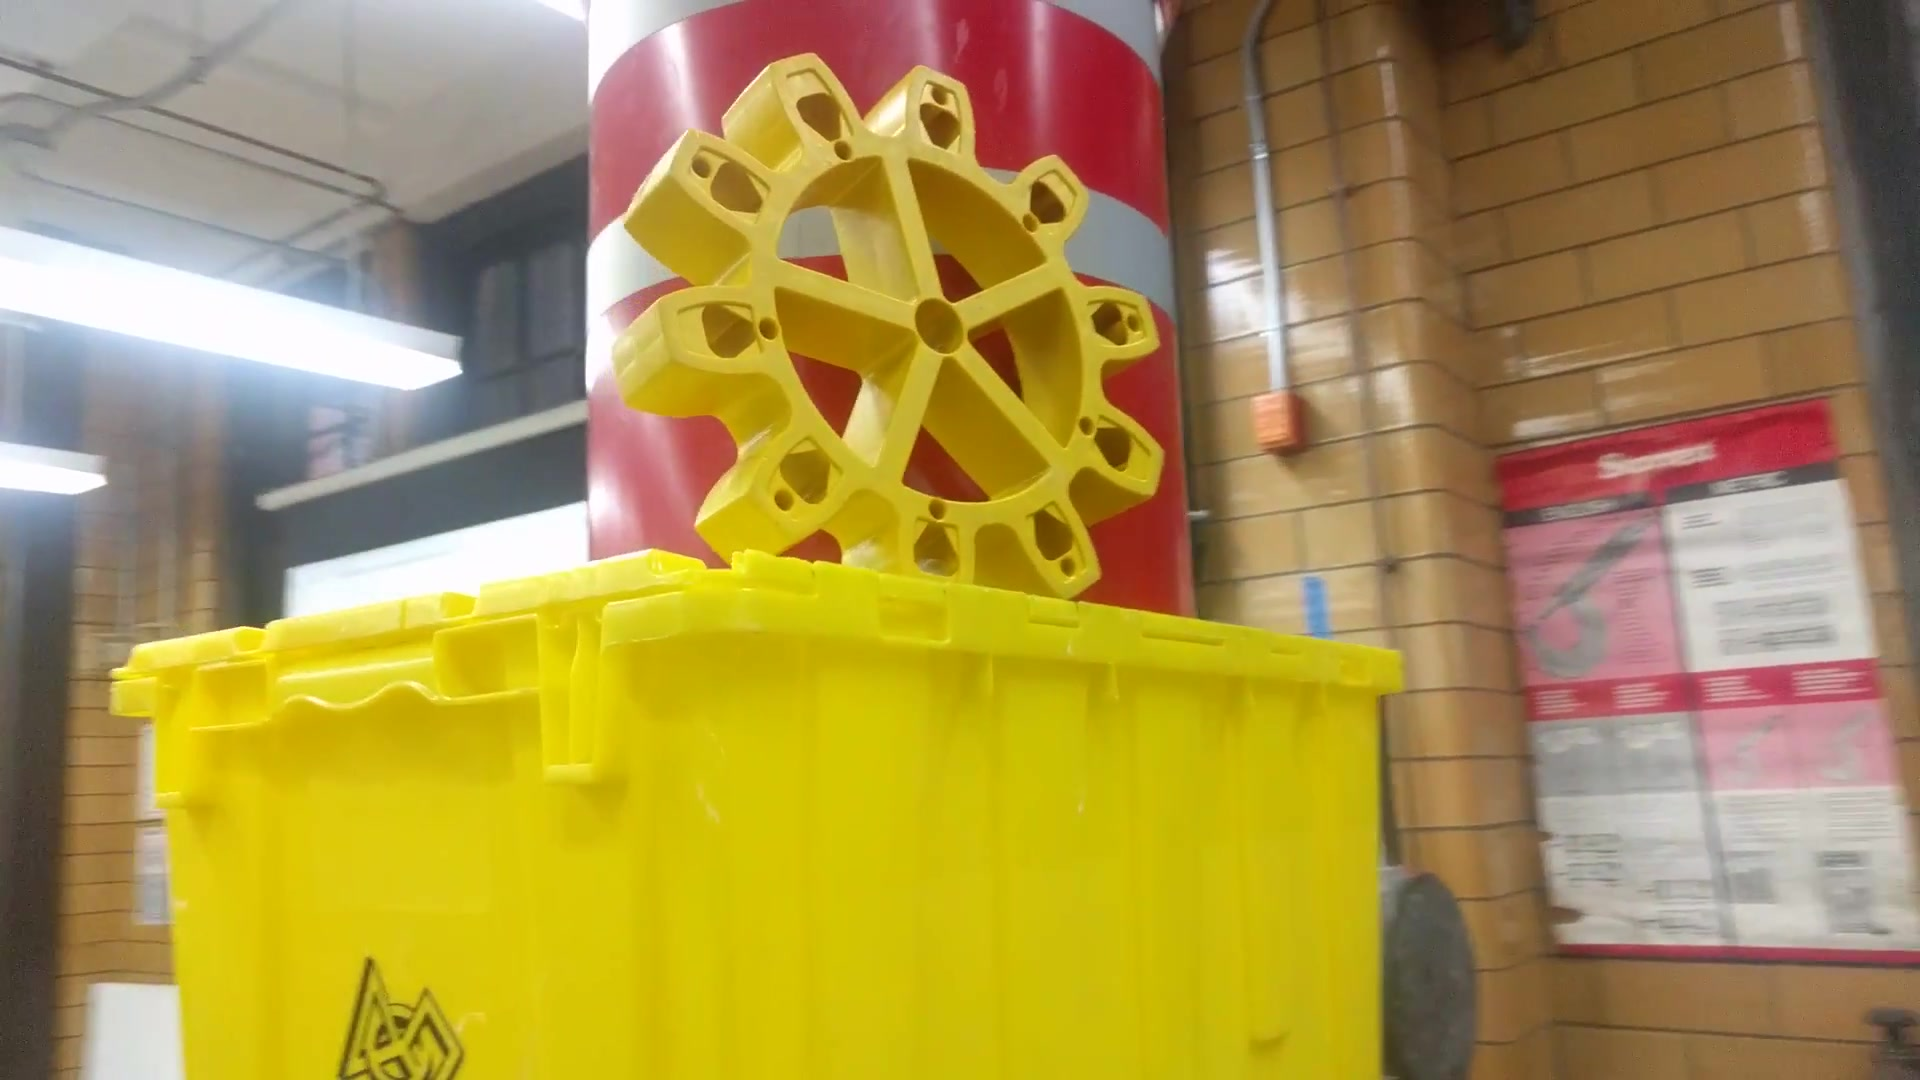gear: (607, 50, 1170, 600)
